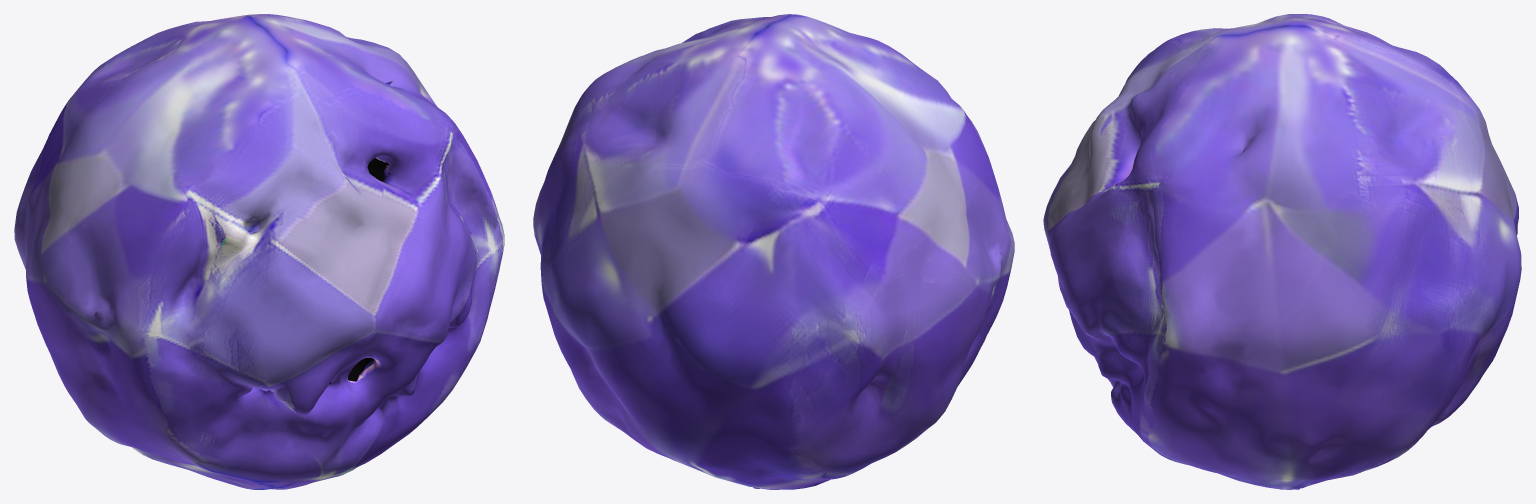
The picture shows the model from 3 angles, left to right: view 1: azimuth 30°, elevation 25°; view 2: azimuth 150°, elevation 25°; view 3: azimuth 270°, elevation 25°; orthographic projection.
Visible parts, largest first — view 1: model.obj; view 2: model.obj; view 3: model.obj.
Part boxes in pixels (bbox=[...]): model.obj: bbox=[14, 14, 504, 489]; model.obj: bbox=[533, 14, 1014, 489]; model.obj: bbox=[1043, 14, 1521, 489].
Size of the model in its own units: 105 by 110 by 103.
1 material, 1 textured.
